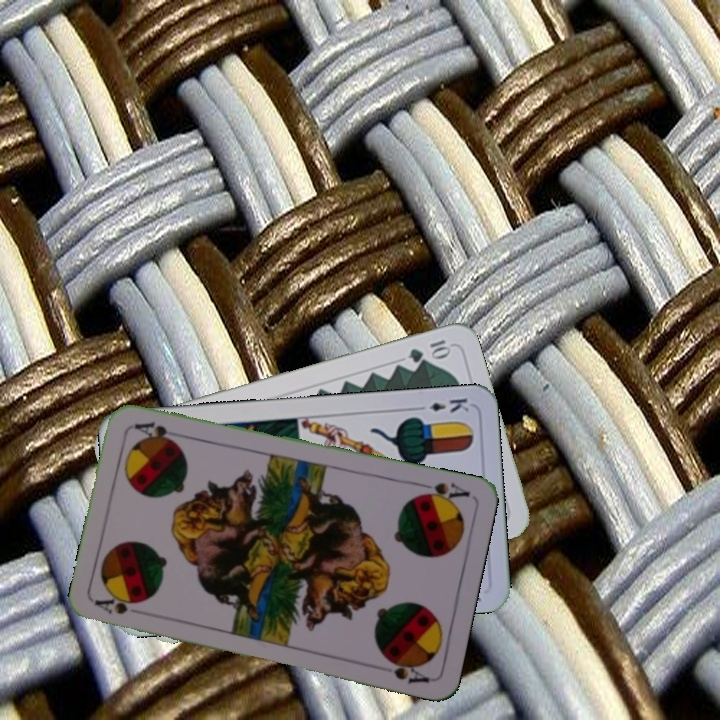EK: (412, 394, 472, 415)
G10: (404, 335, 453, 365)
SA: (412, 478, 472, 506), (92, 595, 151, 618)
